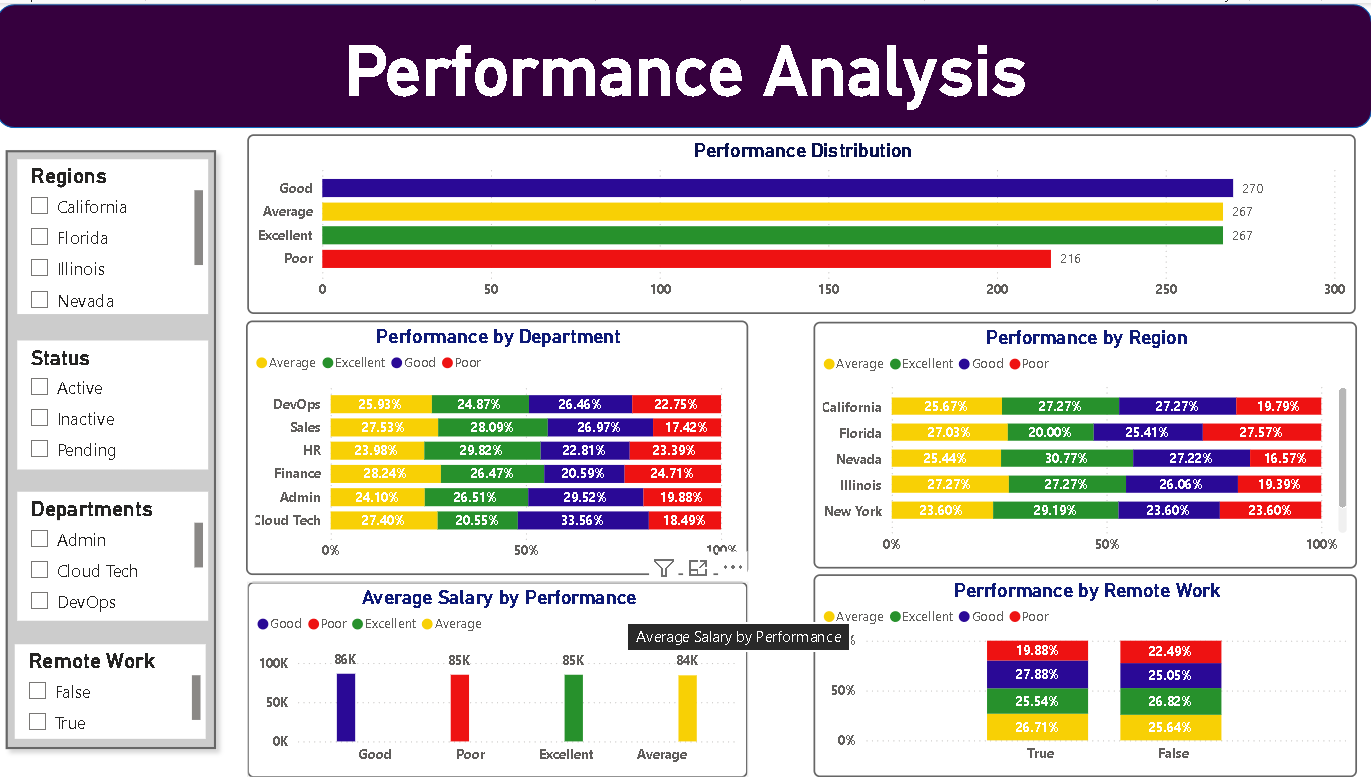

The page's visual inventory and layout, read from the dashboard file:
{"tool":"powerbi","page":{"name":"Page 3","canvas":[1280,720],"ordinal":2},"visuals":[{"type":"shape","box":[0,1.2,1280,115.3],"z":0},{"type":"textbox","box":[319.4,1.2,666.4,127.3],"z":1000},{"type":"clusteredBarChart","title":"Performance Distribution","fields":{"Category":["public employee_details.performance_score"],"Y":["CountNonNull(public employee_details.employee_id)"]},"box":[234.1,122.5,1031.4,166.9],"z":2000},{"type":"hundredPercentStackedBarChart","title":"Performance by Department","fields":{"Category":["public employee_details.department"],"Y":["CountNonNull(public employee_details.employee_id)"],"Series":["public employee_details.performance_score"]},"box":[232.9,295.4,467.1,236.5],"z":3000},{"type":"hundredPercentStackedBarChart","title":"Performance by Region","fields":{"Y":["CountNonNull(public employee_details.employee_id)"],"Series":["public employee_details.performance_score"],"Category":["public employee_details.region"]},"box":[760.1,296.6,505.5,229.3],"z":4000},{"type":"clusteredColumnChart","title":"Average Salary by Performance","fields":{"Series":["public employee_details.performance_score"],"Category":["public employee_details.performance_score"],"Y":["Avg(public employee_details.salary)"]},"box":[234.1,537.9,465.9,182.5],"z":5000},{"type":"hundredPercentStackedColumnChart","title":"Perrformance by Remote Work","fields":{"Category":["public employee_details.remote_work"],"Y":["Count(public employee_details.employee_id)"],"Series":["public employee_details.performance_score"]},"box":[760.1,531.9,505.5,188.5],"z":6000},{"type":"shape","box":[0,128.5,213.7,575.2],"z":7000},{"type":"slicer","fields":{"Values":["public employee_details.region"]},"box":[19.2,145.3,177.7,144.1],"z":8000},{"type":"slicer","fields":{"Values":["public employee_details.status"]},"box":[19.2,313.4,177.7,120.1],"z":9000},{"type":"slicer","fields":{"Values":["public employee_details.department"]},"box":[19.2,455.1,177.7,120.1],"z":10000},{"type":"slicer","fields":{"Values":["public employee_details.remote_work"]},"box":[18,596.8,177.7,87.7],"z":11500}]}

Visuals, with their boxes in screenshot pixels (x1, y1, x2, y2), scaled from the page's 1280x720 canvas onto the 1371x777 screenshot:
shape: box=[0, 1, 1370, 126]
textbox: box=[342, 1, 1056, 139]
"Performance Distribution" clusteredBarChart: box=[251, 132, 1355, 312]
"Performance by Department" hundredPercentStackedBarChart: box=[249, 319, 750, 574]
"Performance by Region" hundredPercentStackedBarChart: box=[814, 320, 1356, 568]
"Average Salary by Performance" clusteredColumnChart: box=[251, 580, 750, 776]
"Perrformance by Remote Work" hundredPercentStackedColumnChart: box=[814, 574, 1356, 776]
shape: box=[0, 139, 229, 759]
slicer - public employee_details.region: box=[21, 157, 211, 312]
slicer - public employee_details.status: box=[21, 338, 211, 468]
slicer - public employee_details.department: box=[21, 491, 211, 621]
slicer - public employee_details.remote_work: box=[19, 644, 210, 739]
